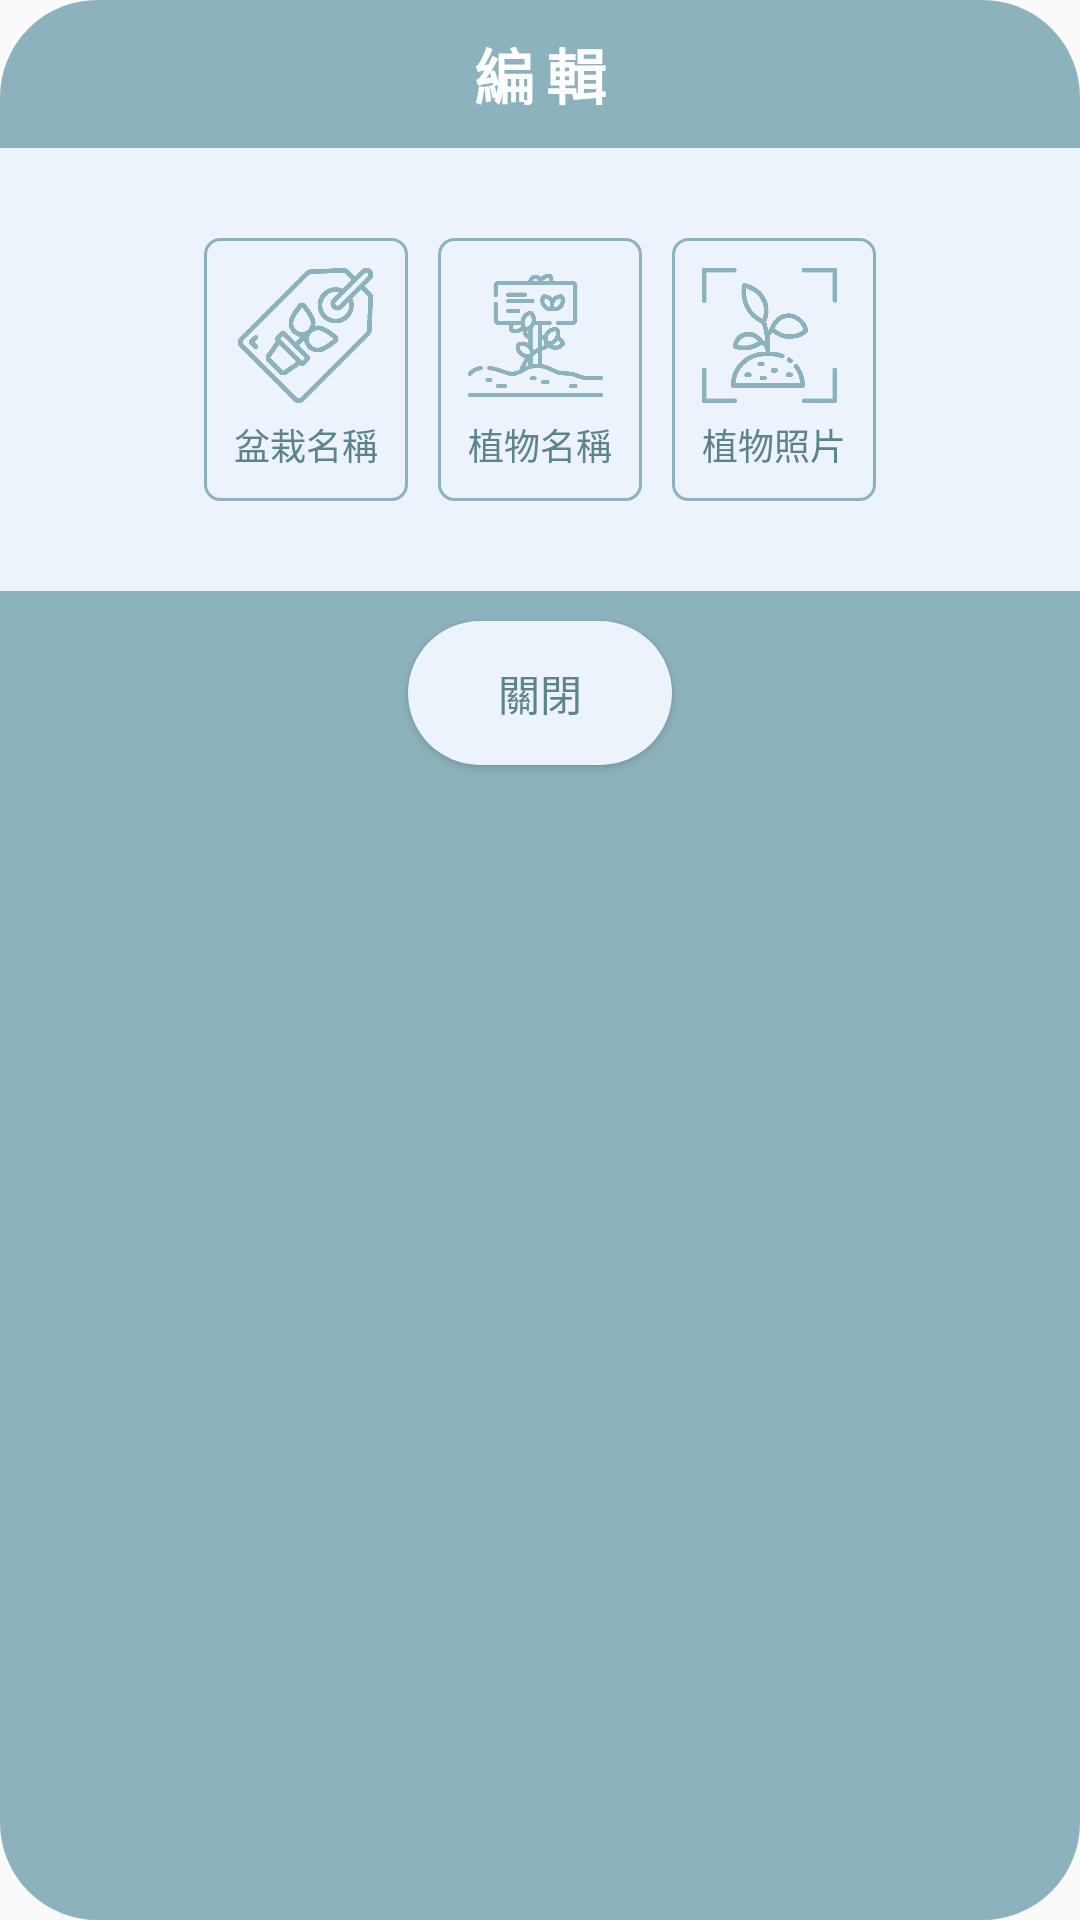

Icon click points for this 1080px x 1920px phone screenshot, format (x=x, y=y):
edit plant: (x=769, y=335)
